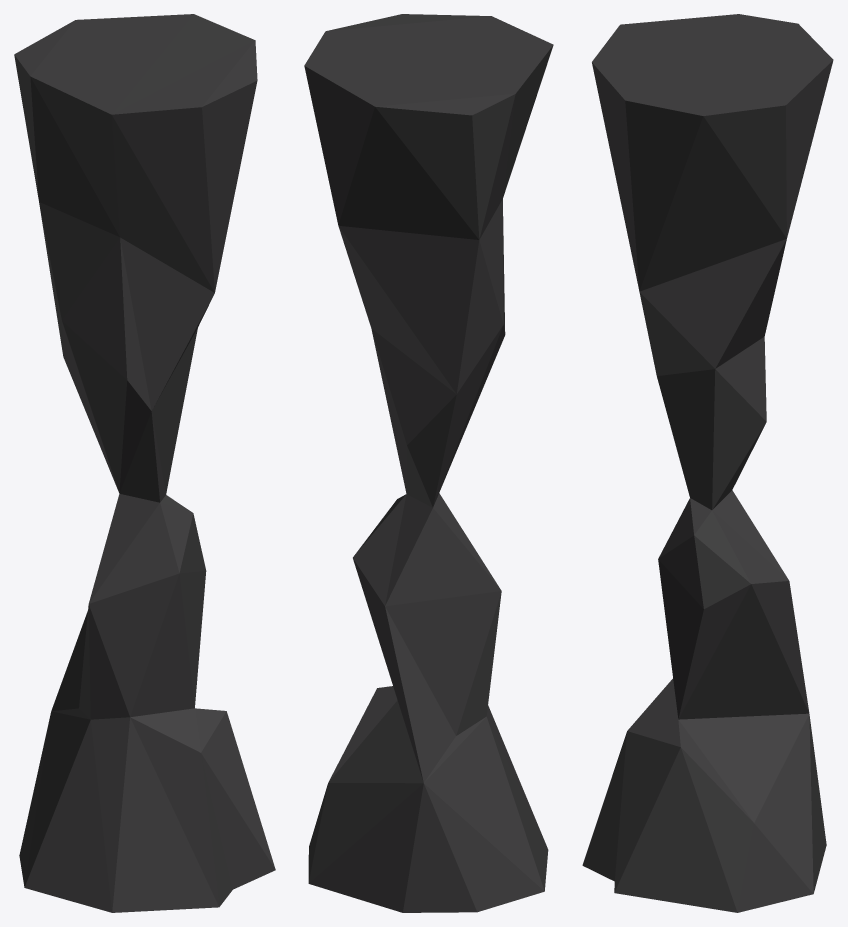
File: Stal_3B_LOD.fbx
3 renders of one model, left to right at view 1: azimuth 30°, elevation 25°; view 2: azimuth 150°, elevation 25°; view 3: azimuth 270°, elevation 25°, orthographic.
Visible parts, largest first — view 1: Group51550; view 2: Group51550; view 3: Group51550.
Boxes of the visible parts, x1,y1,x2,y2 form: Group51550: [14, 14, 275, 912]; Group51550: [304, 14, 553, 912]; Group51550: [582, 14, 833, 912].
Size of the model in its own units: 1.73 by 5.89 by 1.68.
